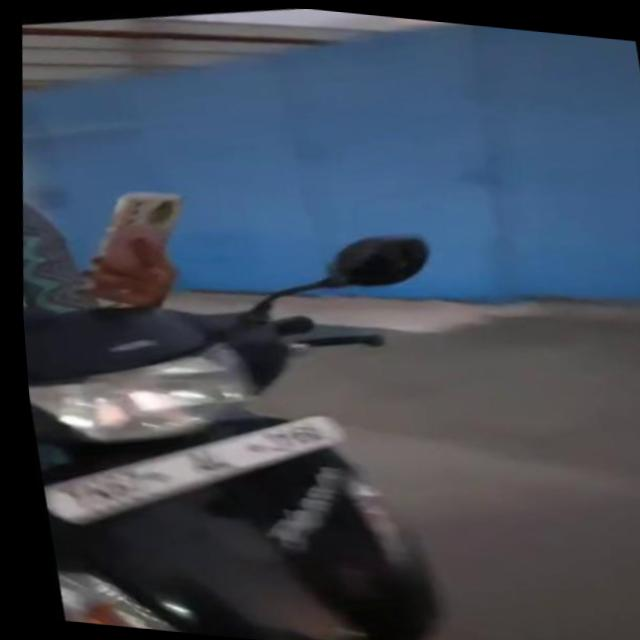USING_MOBILE: (37, 164, 214, 321)
